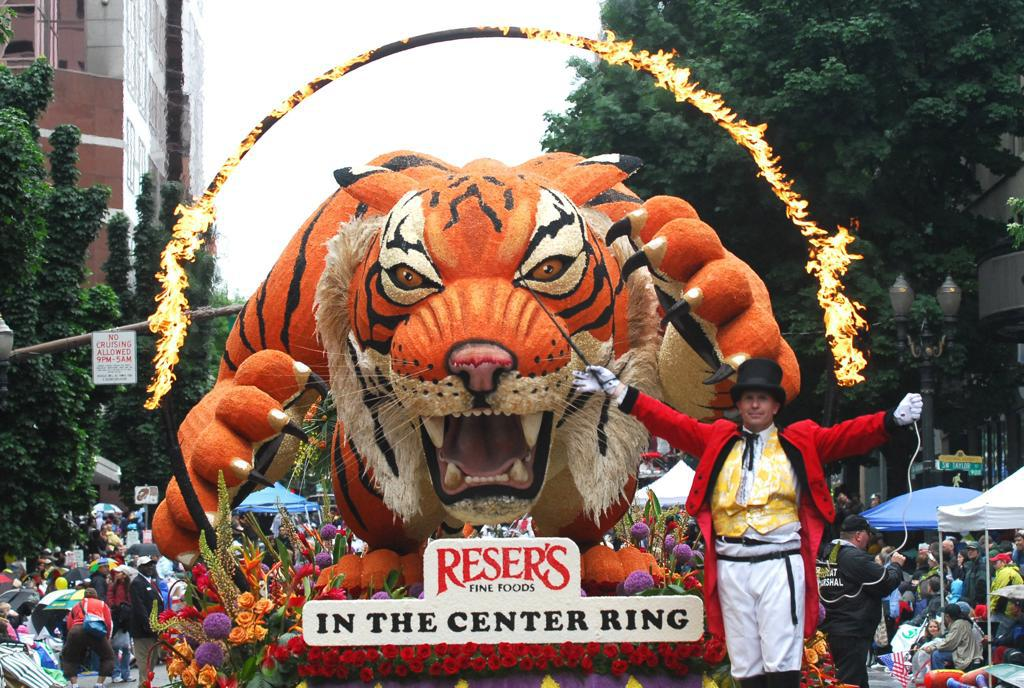face: (740, 382, 774, 426), (854, 529, 869, 551), (143, 562, 154, 576), (929, 623, 939, 635), (968, 546, 977, 559), (993, 558, 1002, 571), (1015, 537, 1024, 550), (958, 555, 967, 566), (101, 565, 110, 575), (116, 570, 125, 580), (943, 544, 951, 555), (872, 497, 878, 507)
